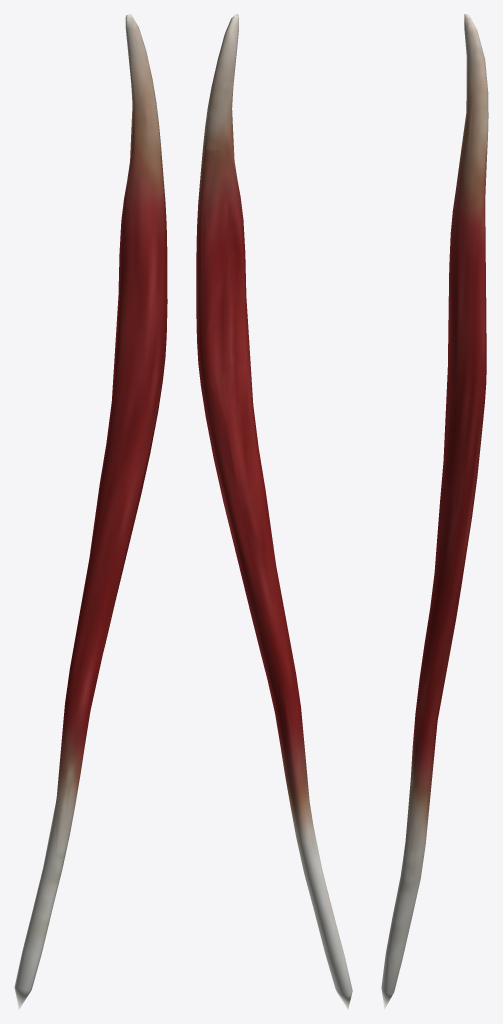
File: L Extensor carpi radialis.fbx
3 renders of one model, left to right at view 1: azimuth 30°, elevation 25°; view 2: azimuth 210°, elevation 25°; view 3: azimuth 330°, elevation 25°, orthographic. The views are drawn at different scales.
Visible parts, largest first — view 1: L Extensor carpi radialis, L Extensor carpi radialis low, L Extensor carpi radialis high; view 2: L Extensor carpi radialis, L Extensor carpi radialis low, L Extensor carpi radialis high; view 3: L Extensor carpi radialis, L Extensor carpi radialis low, L Extensor carpi radialis high.
Part boxes in pixels (x1,y1,x2,y2): L Extensor carpi radialis: [14, 14, 167, 1009]; L Extensor carpi radialis low: [16, 15, 161, 990]; L Extensor carpi radialis high: [23, 20, 165, 973]; L Extensor carpi radialis: [196, 15, 352, 1009]; L Extensor carpi radialis low: [198, 14, 352, 992]; L Extensor carpi radialis high: [199, 24, 347, 973]; L Extensor carpi radialis: [381, 14, 488, 1009]; L Extensor carpi radialis low: [382, 15, 486, 993]; L Extensor carpi radialis high: [384, 21, 485, 976].
Bounding box in the file's own units: 1.39 × 10.55 × 0.6828.
Materials: 1 (1 with a texture image).
